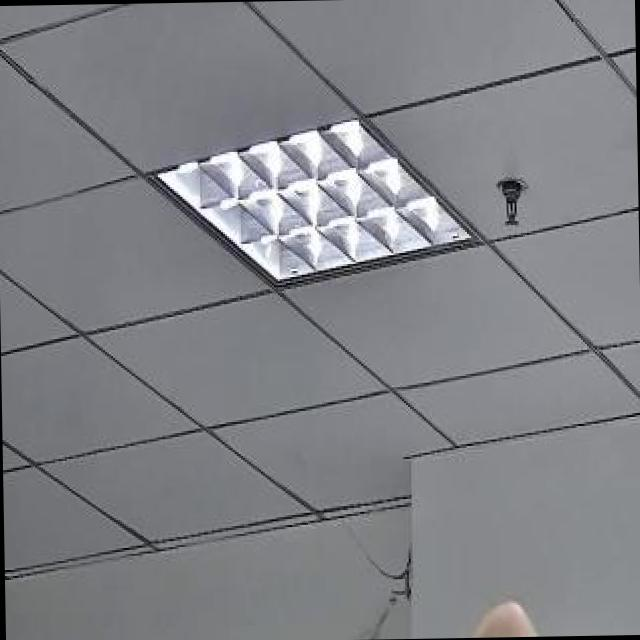Guns: (517, 610, 640, 636)
